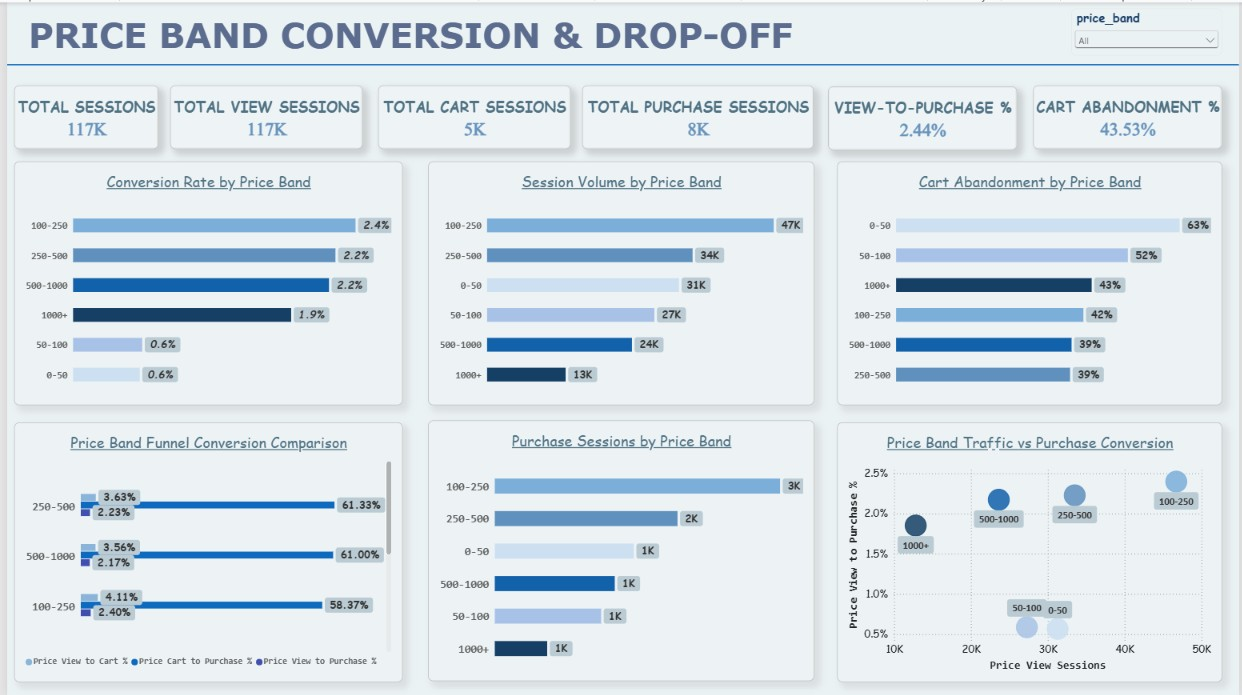

This screenshot's page, from the dashboard's own definition file:
{"tool":"powerbi","page":{"name":"Page 3","canvas":[1920,1080],"ordinal":2},"visuals":[{"type":"clusteredBarChart","title":"Price Band Funnel Conversion Comparison","fields":{"Category":["price_session_funnel.price_band"],"Y":["price_session_funnel.Price View to Cart %","price_session_funnel.Price Cart to Purchase %","price_session_funnel.Price View to Purchase %"]},"box":[10.5,654.1,605.2,404.7],"z":0},{"type":"clusteredBarChart","title":"Session Volume by Price Band","fields":{"Category":["price_session_funnel.price_band"],"Y":["price_session_funnel.Price Total Sessions"]},"box":[655.8,247.7,601.7,380.2],"z":1000},{"type":"clusteredBarChart","title":"Conversion Rate by Price Band","fields":{"Category":["price_session_funnel.price_band"],"Y":["price_session_funnel.Price View to Purchase %"]},"box":[10.5,247.7,605.2,380.2],"z":2000},{"type":"clusteredBarChart","title":"Purchase Sessions by Price Band","fields":{"Category":["price_session_funnel.price_band"],"Y":["price_session_funnel.Price Purchase Sessions"]},"box":[655.8,652.3,601.7,406.4],"z":3000},{"type":"clusteredBarChart","title":"Cart Abandonment by Price Band","fields":{"Category":["price_session_funnel.price_band"],"Y":["price_session_funnel.Price Cart Abandonment %"]},"box":[1294.2,247.7,600,380.2],"z":4000},{"type":"scatterChart","title":"Price Band Traffic vs Purchase Conversion","fields":{"Category":["price_session_funnel.price_band"],"X":["price_session_funnel.Price View Sessions"],"Y":["price_session_funnel.Price View to Purchase %"]},"box":[1294.2,654.1,600,404.7],"z":5000},{"type":"slicer","title":"PRICE BAND","fields":{"Values":["price_session_funnel.price_band"]},"box":[1658.7,8.7,235.5,73.3],"z":6000},{"type":"shape","box":[0,78.5,1920.4,38.4],"z":10000},{"type":"textbox","box":[0,17.4,1257.6,80.2],"z":11000},{"type":"cardVisual","title":"TOTAL VIEW SESSIONS","fields":{"Data":["price_session_funnel.Price Total Sessions"]},"box":[10.5,129.1,225,99.4],"z":12000},{"type":"cardVisual","title":"TOTAL VIEW SESSIONS","fields":{"Data":["price_session_funnel.Price View Sessions"]},"box":[254.7,129.1,300,99.4],"z":13000},{"type":"cardVisual","title":"TOTAL VIEW SESSIONS","fields":{"Data":["price_session_funnel.Price Cart Sessions"]},"box":[579.1,129.1,300,99.4],"z":14000},{"type":"cardVisual","title":"TOTAL VIEW SESSIONS","fields":{"Data":["price_session_funnel.Price Purchase Sessions"]},"box":[896.5,129.1,361,99.4],"z":15000},{"type":"cardVisual","title":"TOTAL VIEW SESSIONS","fields":{"Data":["price_session_funnel.Price View to Purchase %"]},"box":[1280.2,130.8,294.8,99.4],"z":15001},{"type":"cardVisual","title":"TOTAL VIEW SESSIONS","fields":{"Data":["price_session_funnel.Price Cart Abandonment %"]},"box":[1599.4,129.1,294.8,99.4],"z":15002}]}

Visuals, with their boxes in screenshot pixels (x1, y1, x2, y2), scaled from the page's 1920x1080 canvas onto the 1242x695 screenshot:
"Price Band Funnel Conversion Comparison" clusteredBarChart: x1=7, y1=421, x2=398, y2=681
"Session Volume by Price Band" clusteredBarChart: x1=424, y1=159, x2=813, y2=404
"Conversion Rate by Price Band" clusteredBarChart: x1=7, y1=159, x2=398, y2=404
"Purchase Sessions by Price Band" clusteredBarChart: x1=424, y1=420, x2=813, y2=681
"Cart Abandonment by Price Band" clusteredBarChart: x1=837, y1=159, x2=1225, y2=404
"Price Band Traffic vs Purchase Conversion" scatterChart: x1=837, y1=421, x2=1225, y2=681
"PRICE BAND" slicer: x1=1073, y1=6, x2=1225, y2=53
shape: x1=0, y1=51, x2=1241, y2=75
textbox: x1=0, y1=11, x2=814, y2=63
"TOTAL VIEW SESSIONS" cardVisual: x1=7, y1=83, x2=152, y2=147
"TOTAL VIEW SESSIONS" cardVisual: x1=165, y1=83, x2=359, y2=147
"TOTAL VIEW SESSIONS" cardVisual: x1=375, y1=83, x2=569, y2=147
"TOTAL VIEW SESSIONS" cardVisual: x1=580, y1=83, x2=813, y2=147
"TOTAL VIEW SESSIONS" cardVisual: x1=828, y1=84, x2=1019, y2=148
"TOTAL VIEW SESSIONS" cardVisual: x1=1035, y1=83, x2=1225, y2=147
